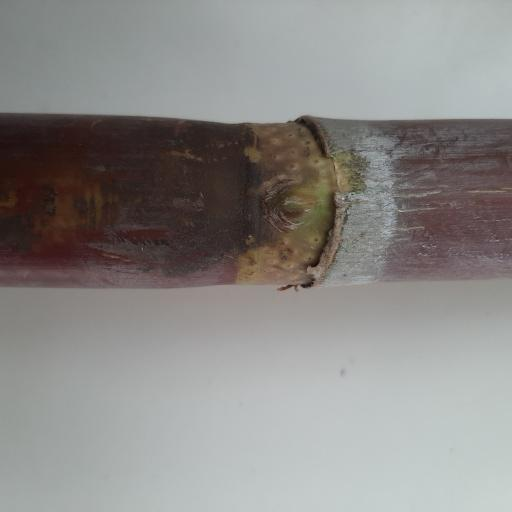Bud: (270, 189, 315, 227)
